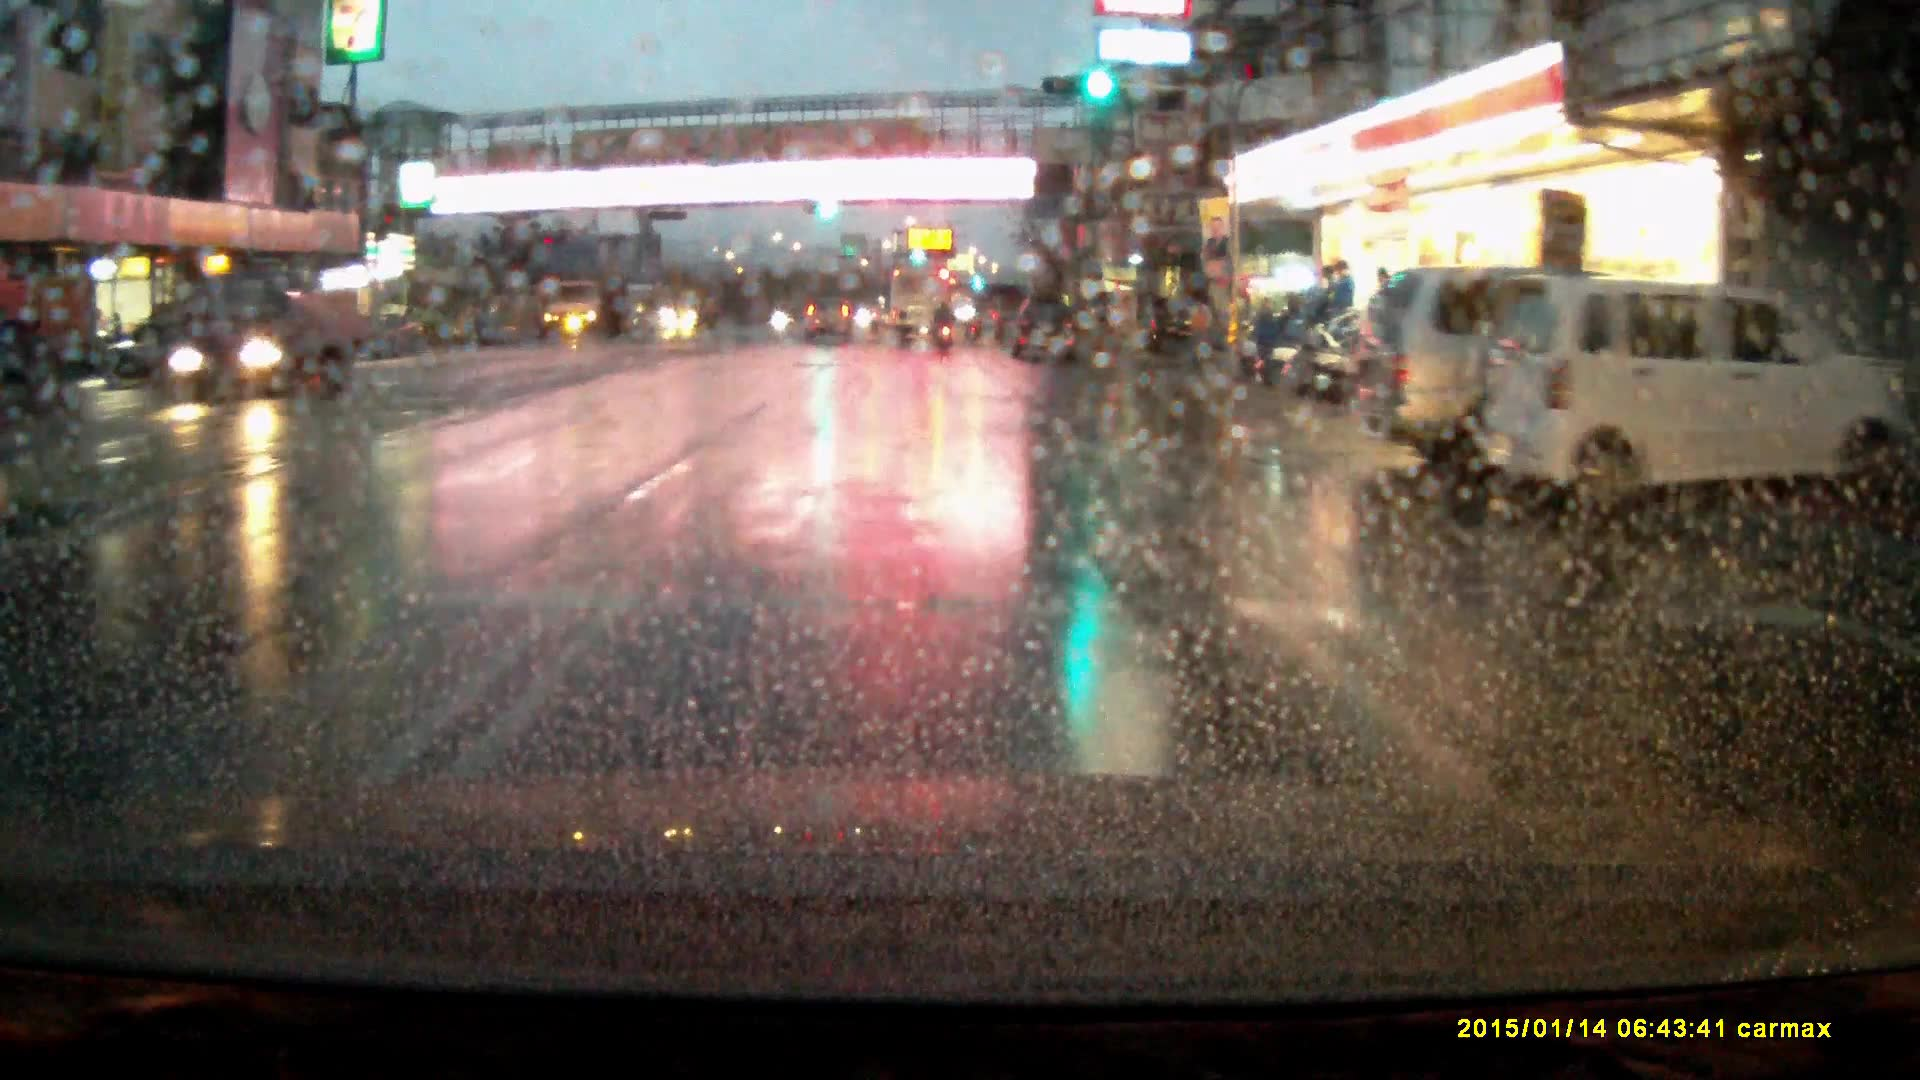rider: (936, 301, 959, 353)
vehicle: (1484, 270, 1865, 514), (1345, 262, 1644, 465), (161, 260, 363, 407), (1009, 286, 1080, 360), (891, 264, 956, 340), (545, 277, 623, 339), (1139, 292, 1217, 351), (665, 279, 722, 330), (801, 298, 856, 348)
